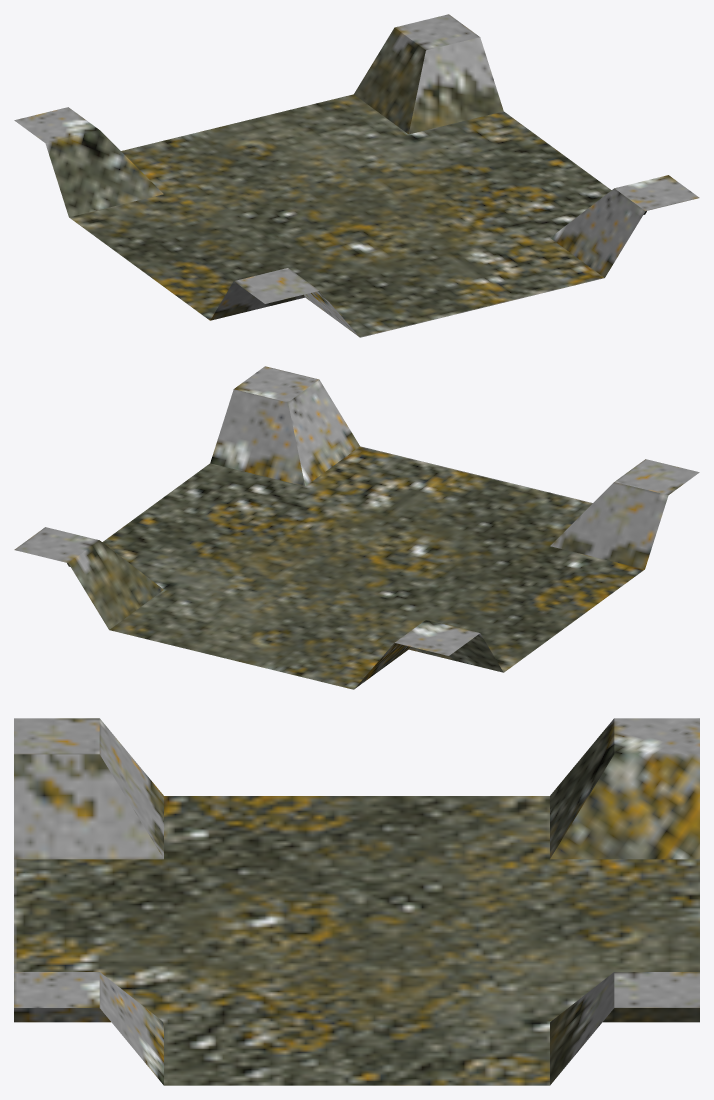
Rendered from MESH_ESGOTOINF_ESCOADOR03.fbx.
3 views of the same model, one above another, from view 1: azimuth 30°, elevation 25°; view 2: azimuth 150°, elevation 25°; view 3: azimuth 270°, elevation 25° (orthographic). The views are drawn at different scales.
Parts seen in each view (by area): view 1: MESH_ESGOTOINF_ESCOADOR03; view 2: MESH_ESGOTOINF_ESCOADOR03; view 3: MESH_ESGOTOINF_ESCOADOR03.
Boxes of the visible parts, x1,y1,x2,y2 form: MESH_ESGOTOINF_ESCOADOR03: (14,14,699,337); MESH_ESGOTOINF_ESCOADOR03: (14,366,699,689); MESH_ESGOTOINF_ESCOADOR03: (14,718,699,1085).
Size of the model in its own units: 4 by 0.5 by 4.
